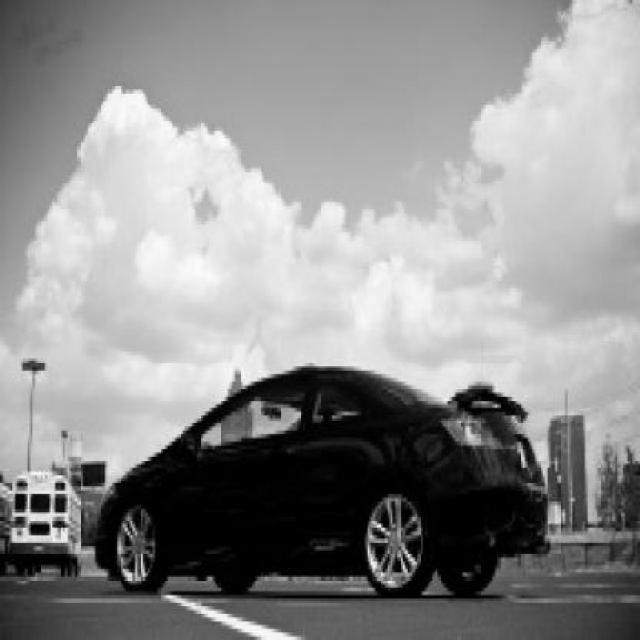Sedan: (92, 366, 551, 599)
